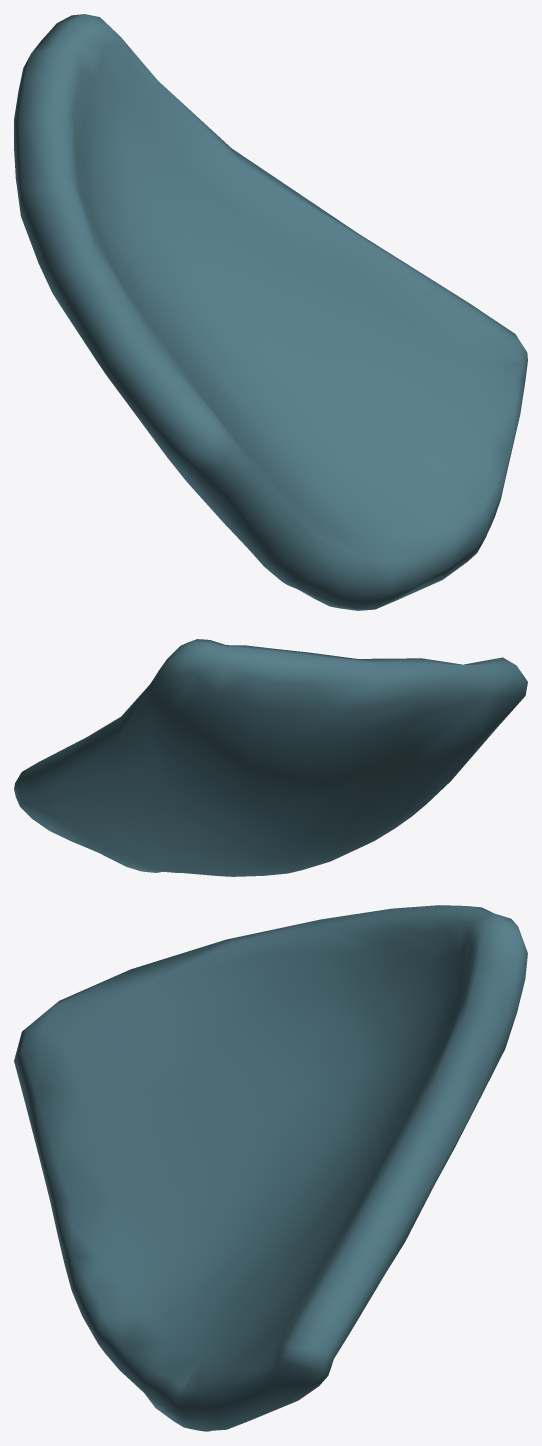
Rendered from Abductor_digiti_minimi_foot_5th_proximal_phalanx_right.glb.
3 views of the same model, one above another, from view 1: azimuth 30°, elevation 25°; view 2: azimuth 150°, elevation 25°; view 3: azimuth 270°, elevation 25° (orthographic). The views are drawn at different scales.
Parts seen in each view (by area): view 1: Abductor_digiti_minimi_of_foot_on_5th_proximal_phalanx.r_Gen; view 2: Abductor_digiti_minimi_of_foot_on_5th_proximal_phalanx.r_Gen; view 3: Abductor_digiti_minimi_of_foot_on_5th_proximal_phalanx.r_Gen.
Boxes of the visible parts, x1,y1,x2,y2 form: Abductor_digiti_minimi_of_foot_on_5th_proximal_phalanx.r_Gen: (14,14,527,610); Abductor_digiti_minimi_of_foot_on_5th_proximal_phalanx.r_Gen: (14,639,527,876); Abductor_digiti_minimi_of_foot_on_5th_proximal_phalanx.r_Gen: (14,905,527,1431).
Size of the model in its own units: 0.00439 by 0.00389 by 0.00432.
